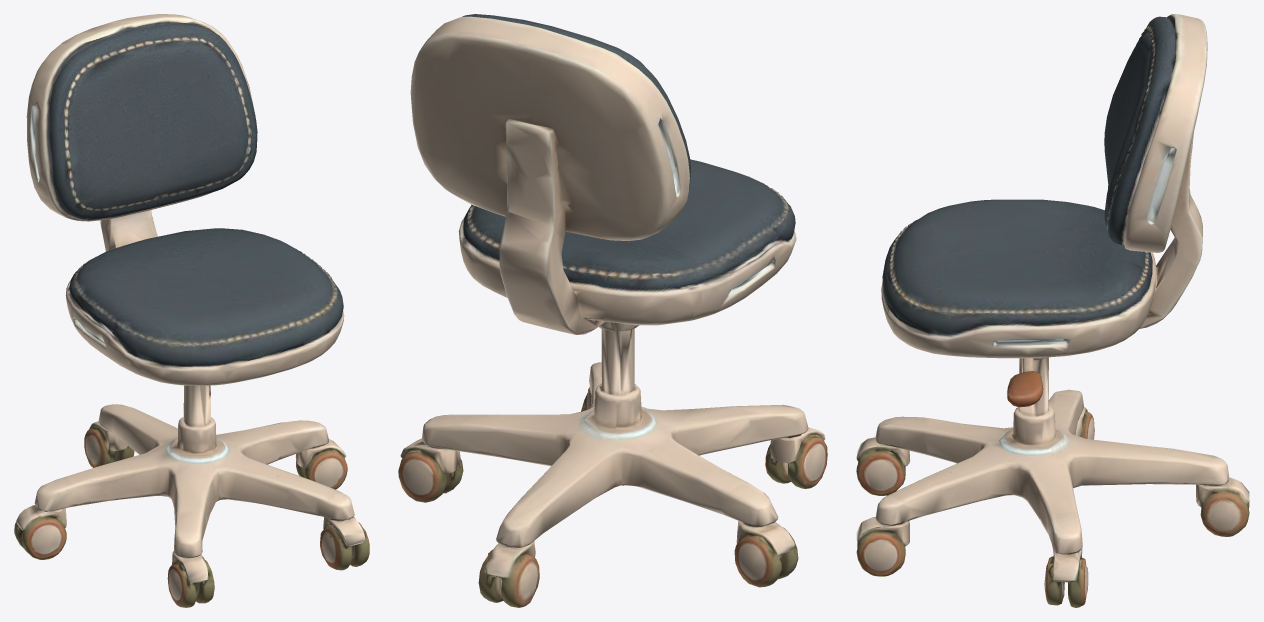
File: desk-chair.medium.glb
3 views of the same model, side by side, from view 1: azimuth 30°, elevation 25°; view 2: azimuth 150°, elevation 25°; view 3: azimuth 270°, elevation 25° (orthographic). The views are drawn at different scales.
Parts seen in each view (by area): view 1: tripo_node_4ed78f29-c6da-4b96-9b46-568618544dfa; view 2: tripo_node_4ed78f29-c6da-4b96-9b46-568618544dfa; view 3: tripo_node_4ed78f29-c6da-4b96-9b46-568618544dfa.
Part boxes in pixels (x1,y1,x2,y2): tripo_node_4ed78f29-c6da-4b96-9b46-568618544dfa: (14, 14, 369, 607); tripo_node_4ed78f29-c6da-4b96-9b46-568618544dfa: (398, 14, 827, 607); tripo_node_4ed78f29-c6da-4b96-9b46-568618544dfa: (856, 14, 1249, 607).
Size of the model in its own units: 0.6264 by 0.8597 by 0.6199.
Materials: 1 (1 with a texture image).
